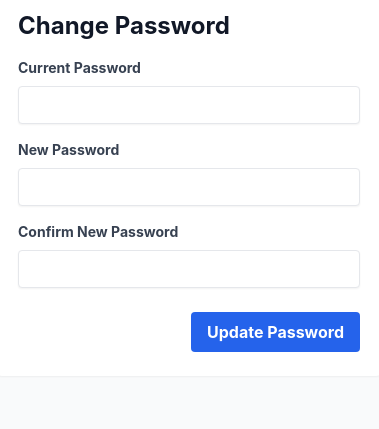
Test case: ChangePasswordForm › shows validation error for invalid new password
This screenshot has width=379, height=429.
Type "weak" into the password field labelled "New Password" at (189, 187), box [18,168,360,206]
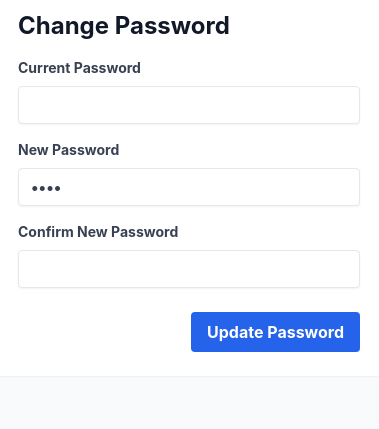
Click the button "Update Password" at (276, 332), box [191,312,360,352]
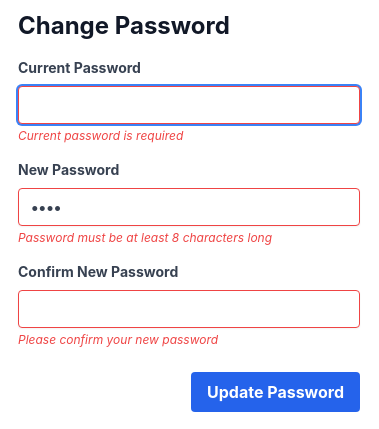
Check: the text "Password must be at least 8 characters long" is shown, box [18,230,272,245]
